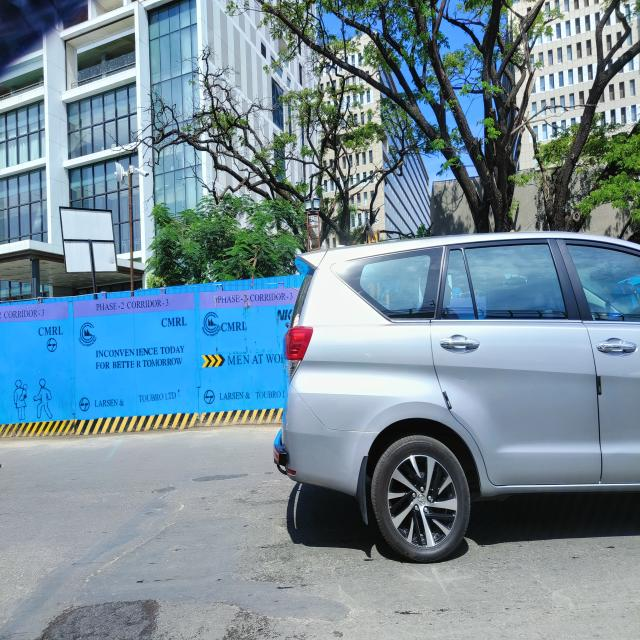scratch: (452, 375, 468, 383)
